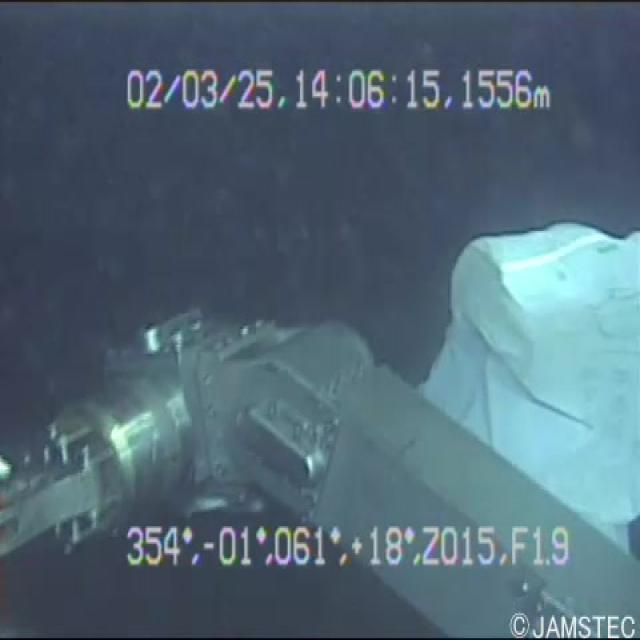plastic: (368, 176, 639, 562)
